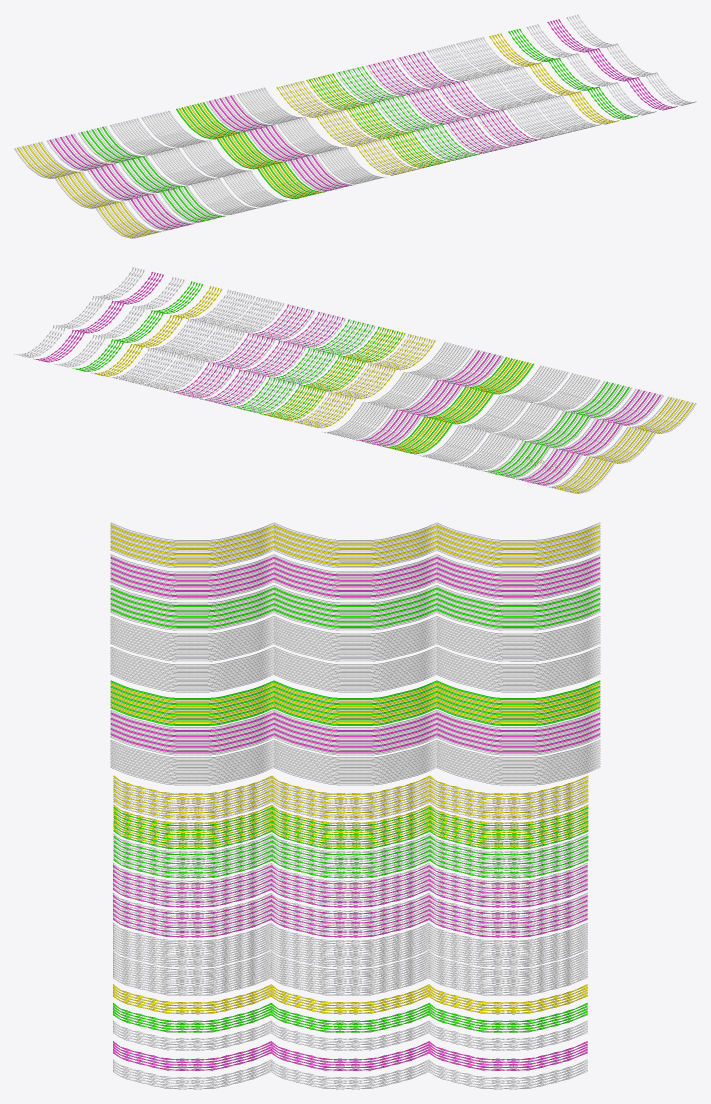
File: Illumination Line.fbx
3 renders of one model, top to bottom at view 1: azimuth 30°, elevation 25°; view 2: azimuth 150°, elevation 25°; view 3: azimuth 270°, elevation 25°, orthographic. The views are drawn at different scales.
Parts seen in each view (by area): view 1: Illumination Line Yellow and White, Illumination Line Yellow and green, Illumination Line Blue and White, Illumination Line Blue and Light blue, Illumination Line green and White, Illumination Line Pink and White, Illumination Line Purple and White, Illumination Line Purple and Pink, Illumination Yellow and White, Illumination Blue and White, Illumination Yellow and green, Illumination Pink and White (+8 smaller); view 2: Illumination Line Purple and White, Illumination Line green and White, Illumination Line Blue and White, Illumination Line Pink and White, Illumination Line Yellow and green, Illumination Line Yellow and White, Illumination Line Blue and Light blue, Illumination Line Purple and Pink, Illumination Red and Pink, Illumination Yellow and green, Illumination Blue and Light blue, Illumination Pink and White (+8 smaller); view 3: Illumination Line Pink and White, Illumination Line Blue and White, Illumination Line Purple and Pink, Illumination Line Blue and Light blue, Illumination Line Purple and White, Illumination Line green and White, Illumination Line Yellow and White, Illumination Line Yellow and green, Illumination green and White, Illumination Yellow and green, Illumination Blue and White, Illumination Yellow and White (+8 smaller).
Boxes of the visible parts, x1,y1,x2,y2 form: Illumination Line Yellow and White: [14, 141, 164, 238]; Illumination Line Yellow and green: [176, 102, 325, 198]; Illumination Line Blue and White: [141, 110, 291, 207]; Illumination Line Blue and Light blue: [236, 87, 386, 184]; Illumination Line green and White: [78, 126, 227, 222]; Illumination Line Pink and White: [46, 133, 196, 230]; Illumination Line Purple and White: [110, 118, 259, 214]; Illumination Line Purple and Pink: [206, 95, 355, 191]; Illumination Yellow and White: [276, 81, 421, 175]; Illumination Blue and White: [427, 44, 572, 138]; Illumination Yellow and green: [306, 73, 451, 168]; Illumination Pink and White: [366, 59, 511, 153]; Illumination Line Purple and White: [450, 373, 600, 470]; Illumination Line green and White: [482, 381, 632, 478]; Illumination Line Blue and White: [418, 365, 568, 462]; Illumination Line Pink and White: [513, 388, 663, 485]; Illumination Line Yellow and green: [383, 357, 534, 454]; Illumination Line Yellow and White: [546, 396, 696, 493]; Illumination Line Blue and Light blue: [323, 342, 473, 439]; Illumination Line Purple and Pink: [353, 349, 503, 446]; Illumination Red and Pink: [169, 304, 315, 398]; Illumination Yellow and green: [259, 326, 405, 420]; Illumination Blue and Light blue: [109, 289, 255, 383]; Illumination Pink and White: [200, 312, 346, 405]; Illumination Line Pink and White: [110, 554, 600, 599]; Illumination Line Blue and White: [110, 647, 600, 692]; Illumination Line Purple and Pink: [110, 710, 600, 755]; Illumination Line Blue and Light blue: [110, 740, 600, 785]; Illumination Line Purple and White: [110, 616, 600, 661]; Illumination Line green and White: [110, 585, 600, 630]; Illumination Line Yellow and White: [110, 522, 600, 567]; Illumination Line Yellow and green: [110, 680, 600, 725]; Illumination green and White: [113, 833, 588, 878]; Illumination Yellow and green: [113, 804, 588, 849]; Illumination Blue and White: [113, 922, 587, 967]; Illumination Yellow and White: [113, 775, 588, 820].
Size of the model in its own units: 25.61 by 0.5918 by 9.67.
